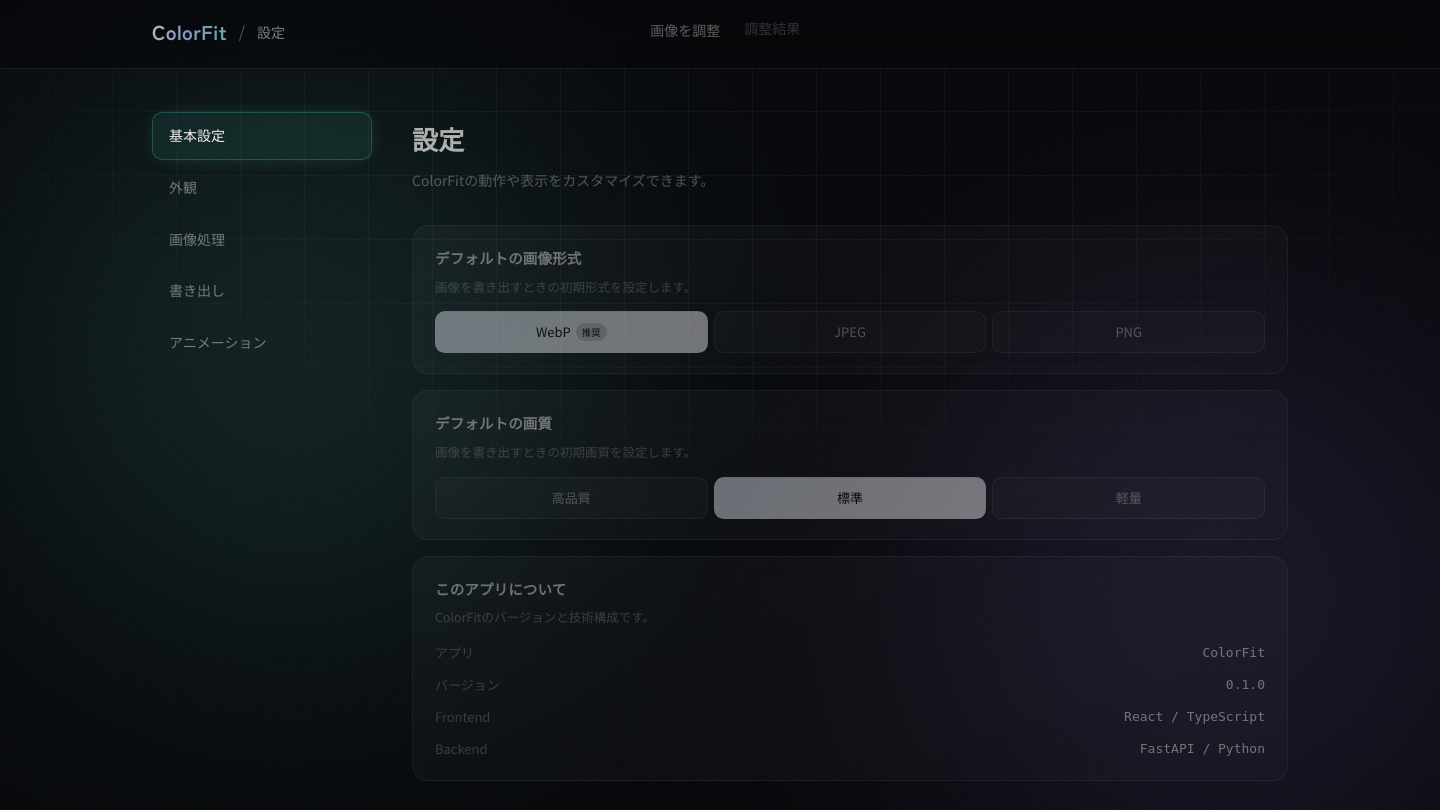
settings page › hides processing options that are not connected yet
Expected: the heading "設定" is shown, [412,120,464,157]
Click the tab "画像処理": [262, 240] box [152,216,372,263]
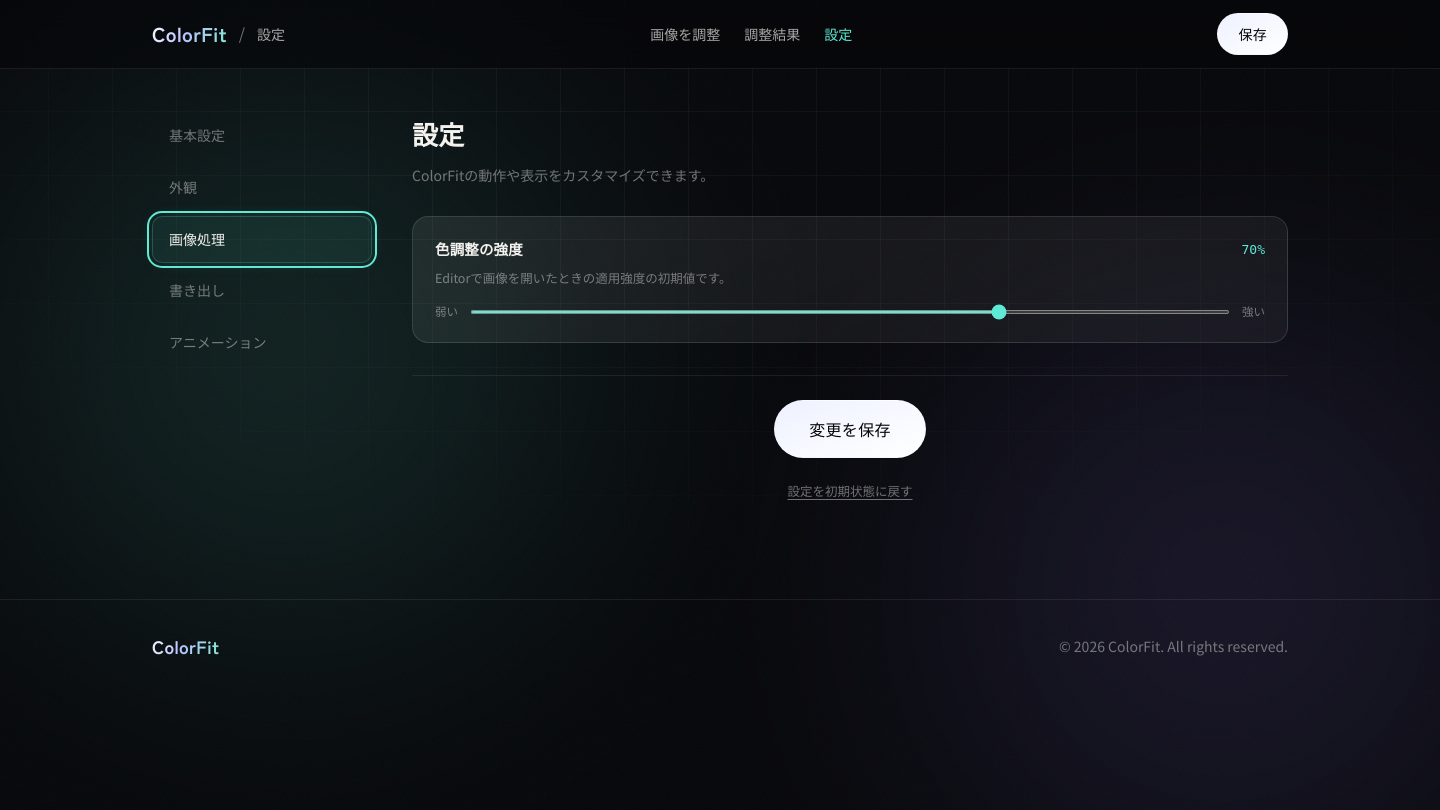
Result: the slider named "色調整の強度" is shown at [470,310,1230,314]
